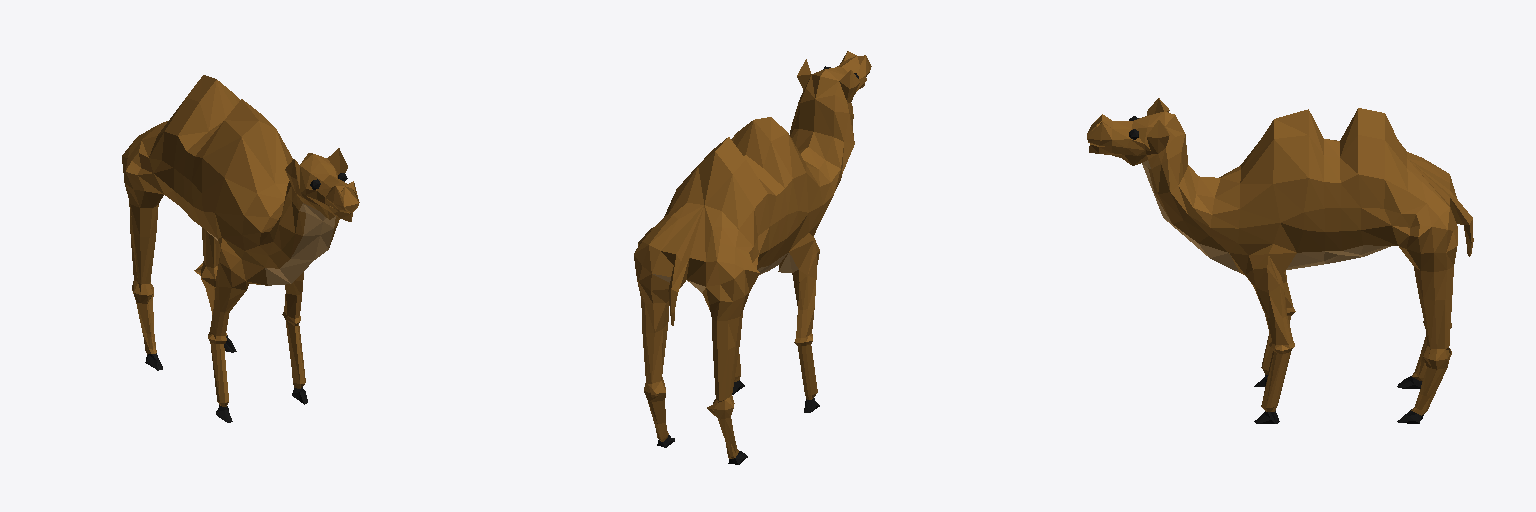
File: NOVELO_CAMEL.obj
3 views of the same model, side by side, from view 1: azimuth 30°, elevation 25°; view 2: azimuth 150°, elevation 25°; view 3: azimuth 270°, elevation 25° (orthographic).
Parts seen in each view (by area): view 1: Body; view 2: Body; view 3: Body.
Boxes of the visible parts, <box> form: Body: <box>122,75,359,422</box>; Body: <box>634,51,871,464</box>; Body: <box>1087,98,1473,423</box>.
Size of the model in its own units: 160 by 369 by 437.